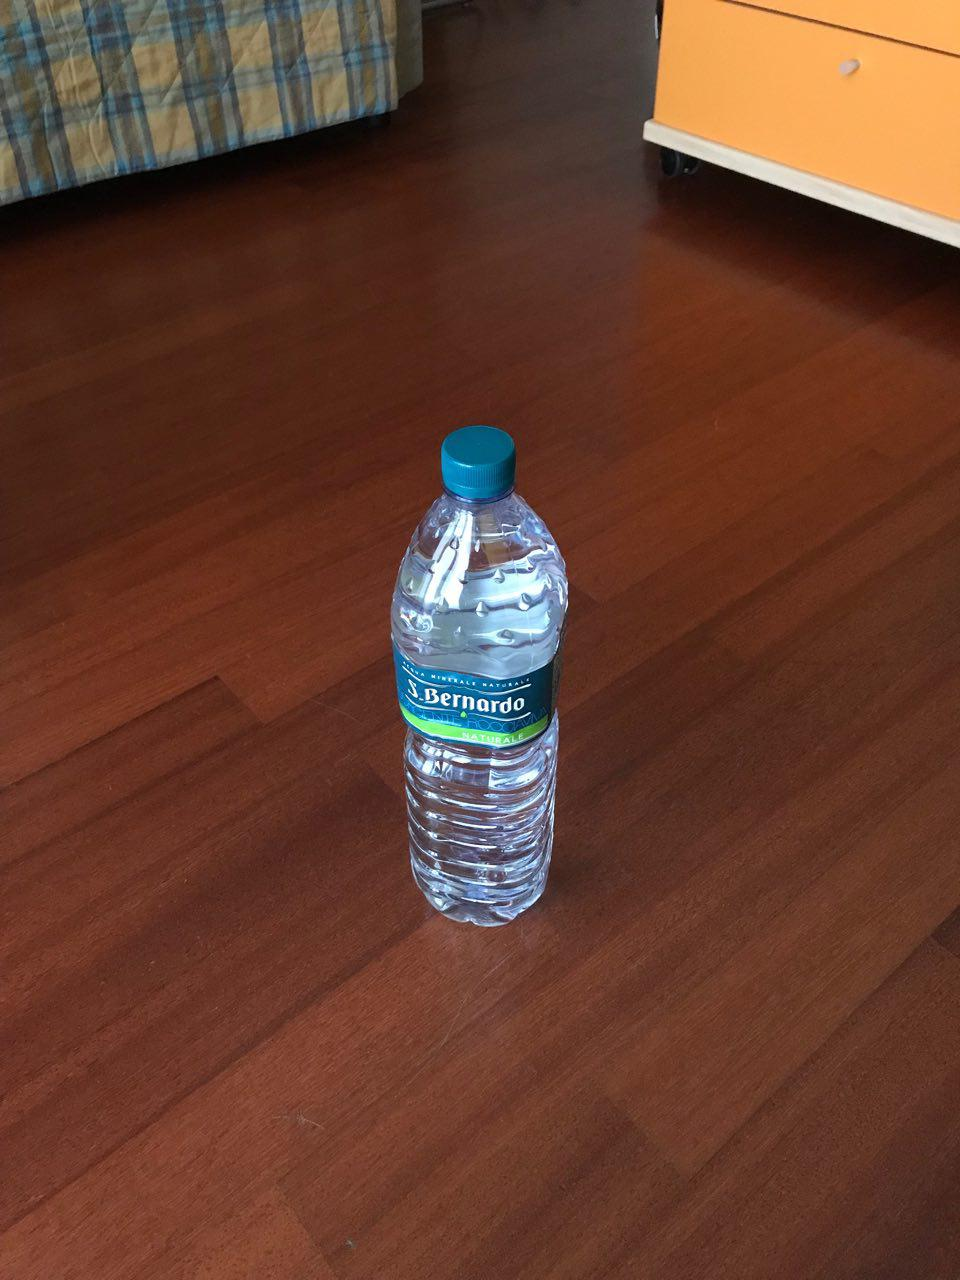san_bernardo: (387, 421, 571, 931)
